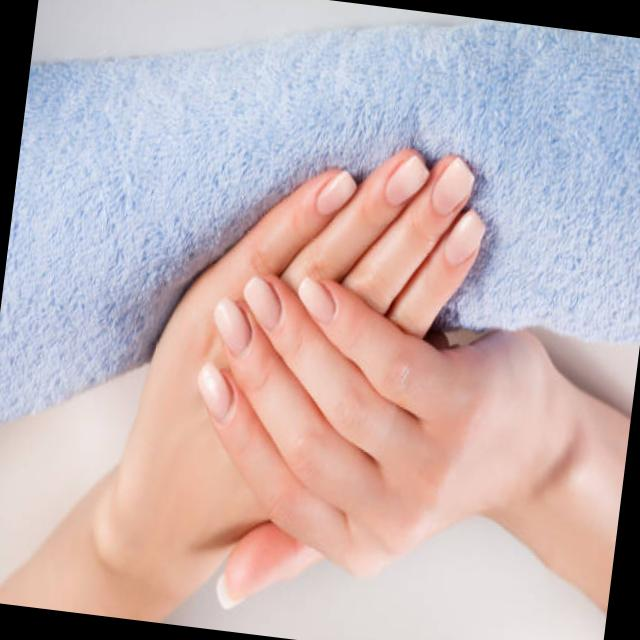Nail: (430, 155, 473, 214), (442, 210, 484, 264), (384, 153, 428, 204), (196, 360, 232, 420), (213, 297, 250, 354), (243, 276, 280, 328), (315, 167, 355, 214), (297, 276, 334, 323)
